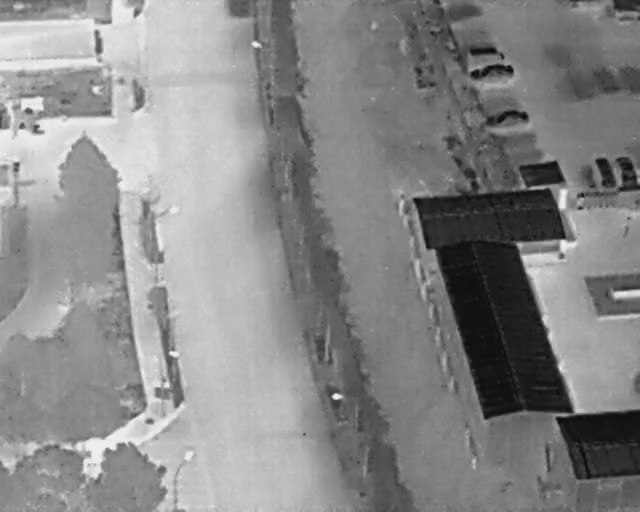Car: (483, 106, 531, 131), (593, 155, 618, 189), (469, 63, 514, 81), (615, 153, 638, 188), (467, 45, 505, 61)
